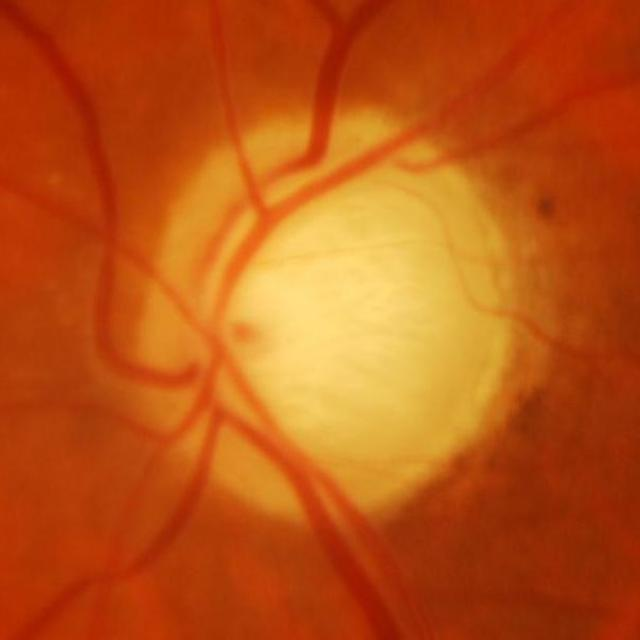OC: (214, 190, 448, 439)
OD: (102, 109, 541, 524)
